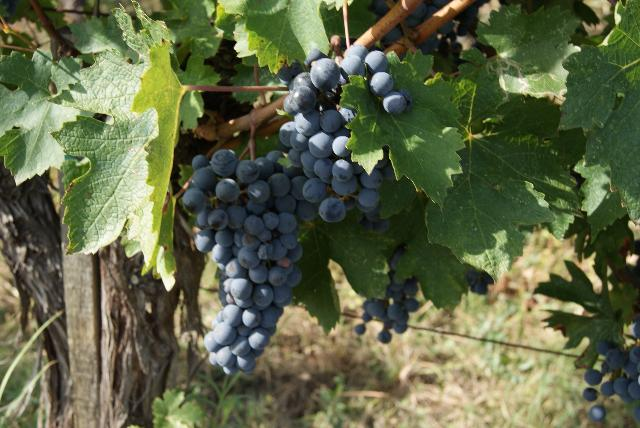grapes: (182, 150, 301, 375), (278, 45, 412, 232)
